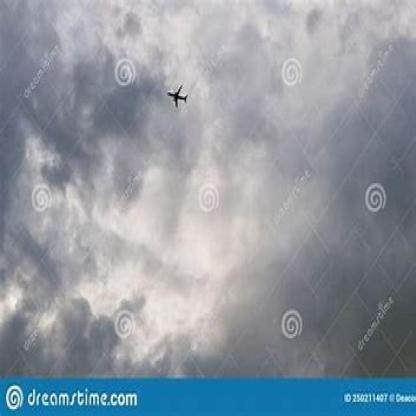plane: (165, 84, 194, 112)
